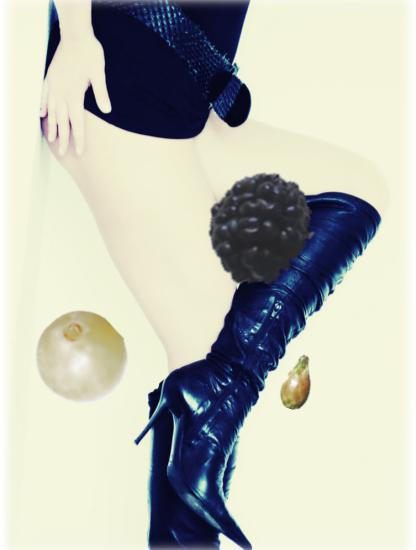Cactus: (270, 354, 327, 411)
Grape: (33, 310, 129, 406)
Mulberry: (178, 140, 324, 286)
